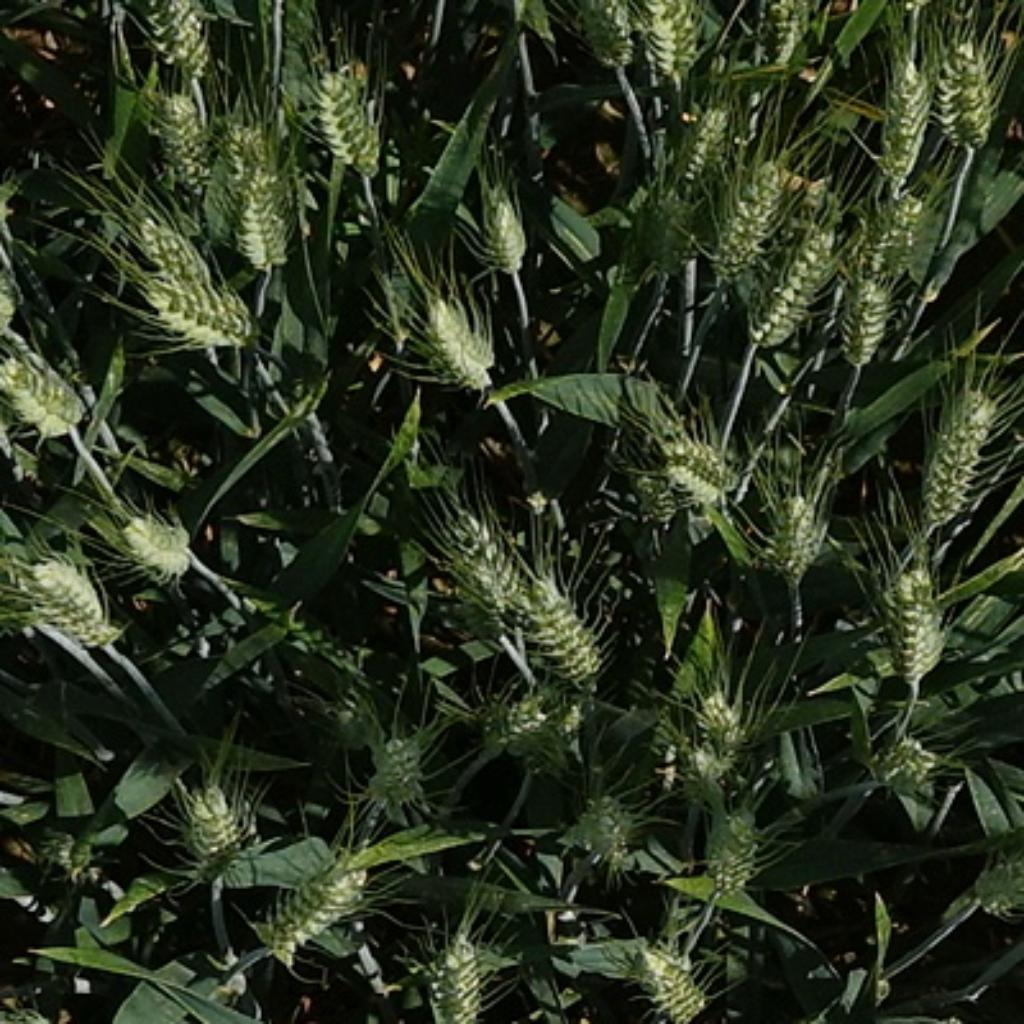0-0: (435, 504, 545, 663), (739, 212, 849, 350), (215, 112, 302, 276), (916, 390, 1002, 537), (714, 148, 801, 291), (465, 673, 588, 770), (262, 861, 378, 962), (128, 273, 263, 358), (870, 555, 954, 686), (921, 23, 1006, 151), (299, 53, 386, 176), (2, 343, 99, 453), (606, 926, 711, 1024), (675, 675, 755, 803), (15, 542, 112, 642), (852, 179, 949, 279), (409, 284, 499, 391), (524, 563, 604, 683), (166, 773, 256, 875), (125, 212, 227, 302), (872, 46, 934, 186), (409, 929, 496, 1024), (665, 89, 747, 189), (755, 478, 832, 581), (650, 422, 742, 506), (696, 796, 768, 901), (832, 263, 903, 363), (145, 84, 217, 181), (355, 721, 435, 808), (561, 782, 645, 864), (471, 174, 535, 279), (860, 721, 947, 798), (115, 506, 204, 581), (30, 819, 107, 888), (145, 0, 214, 75), (641, 1, 703, 84), (635, 197, 700, 271), (571, 1, 630, 73), (756, 1, 807, 70), (1021, 565, 1024, 642)
